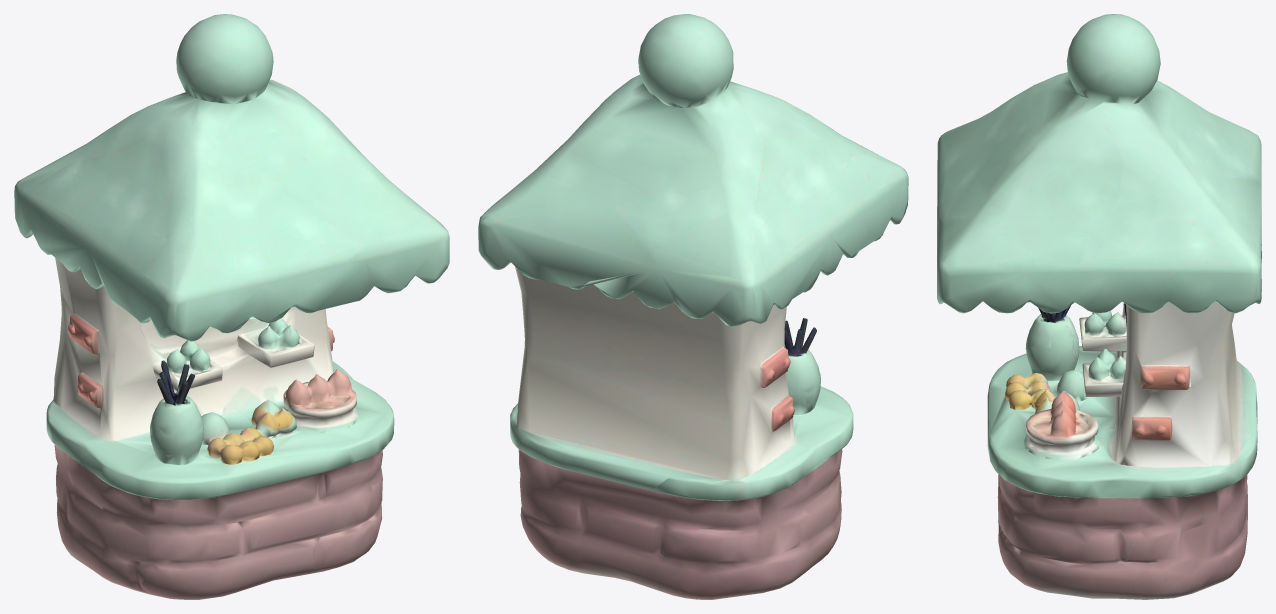
File: clay-market-stall.glb
3 renders of one model, left to right at view 1: azimuth 30°, elevation 25°; view 2: azimuth 150°, elevation 25°; view 3: azimuth 270°, elevation 25°, orthographic.
Bounding box in the file's own units: 1.07 × 1.91 × 1.07.
1 material, 1 textured.
